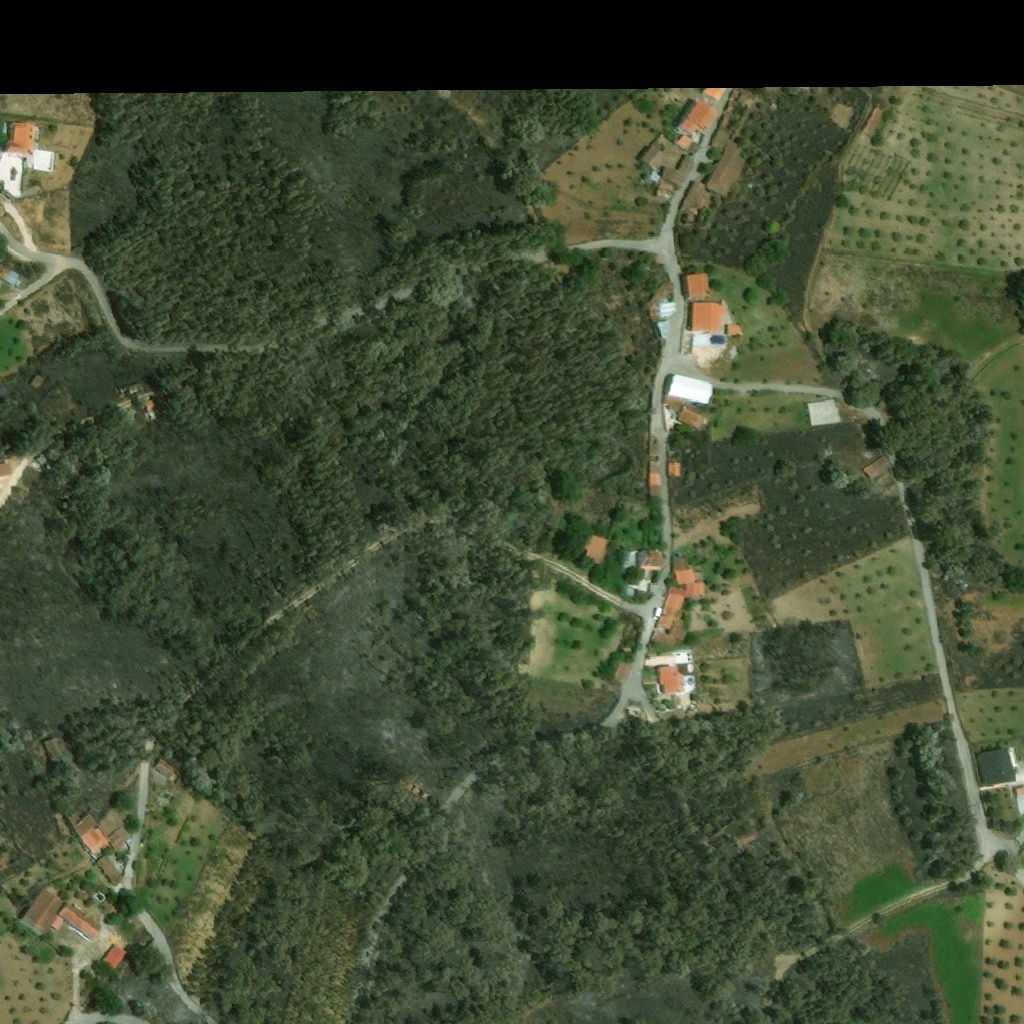0 no-damage: (706, 139, 752, 198), (20, 885, 66, 935), (58, 900, 106, 941), (665, 371, 716, 406), (973, 748, 1016, 789), (707, 98, 740, 151), (679, 181, 712, 228), (681, 98, 720, 136), (656, 587, 685, 629), (650, 617, 688, 649), (690, 301, 730, 331), (578, 534, 611, 568), (805, 397, 842, 427), (63, 806, 98, 836), (80, 827, 112, 858), (6, 121, 36, 154), (96, 853, 126, 886), (860, 103, 888, 138), (637, 142, 669, 172), (657, 664, 686, 694), (677, 402, 708, 430), (102, 943, 128, 971), (107, 823, 134, 849), (647, 289, 666, 321), (685, 271, 710, 295), (637, 548, 664, 570), (653, 178, 677, 202), (730, 83, 754, 106), (660, 167, 688, 186), (673, 133, 696, 154), (684, 580, 707, 601), (154, 757, 174, 778), (676, 154, 695, 176), (617, 550, 637, 570), (661, 391, 683, 409), (4, 267, 22, 287), (674, 570, 695, 585), (48, 913, 65, 931), (644, 448, 660, 465), (659, 302, 675, 317), (672, 556, 689, 570), (658, 280, 675, 293), (655, 320, 667, 338), (1008, 747, 1018, 768), (726, 323, 743, 335), (0, 462, 12, 478), (668, 462, 680, 477), (169, 768, 181, 783), (0, 261, 9, 280), (648, 475, 661, 487), (629, 702, 641, 713), (649, 435, 659, 448), (648, 465, 660, 475), (626, 587, 635, 596), (668, 452, 675, 463), (126, 837, 135, 845), (673, 696, 678, 704)
1 minor-damage: (861, 453, 891, 482), (44, 737, 61, 758), (29, 372, 46, 389), (33, 450, 50, 467), (144, 398, 154, 410), (145, 410, 155, 421)
3 destroyed: (117, 381, 145, 400)
4 un-classified: (614, 661, 632, 682), (869, 395, 886, 411), (1016, 799, 1023, 815), (634, 591, 646, 600), (1015, 786, 1023, 799), (546, 527, 555, 538), (739, 81, 751, 87)
